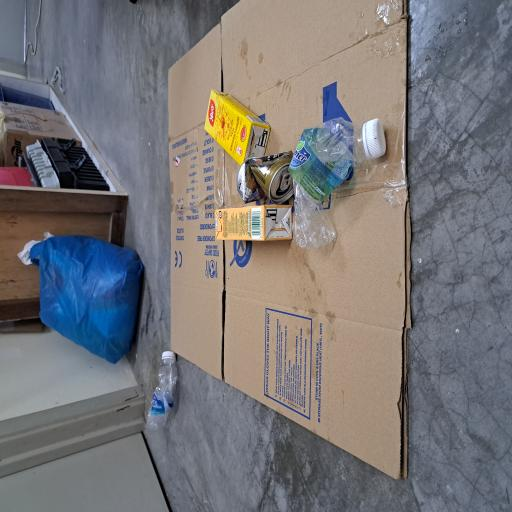can: (232, 316, 272, 392)
cardboard: (24, 226, 384, 512)
drink carton: (259, 272, 317, 361), (204, 287, 230, 389)
plastic bag: (111, 39, 210, 191)
plastic bottle: (197, 384, 296, 484), (60, 193, 116, 237)
plastic bottle cap: (264, 487, 295, 512), (113, 215, 121, 234)
pop tab: (241, 373, 254, 389)
